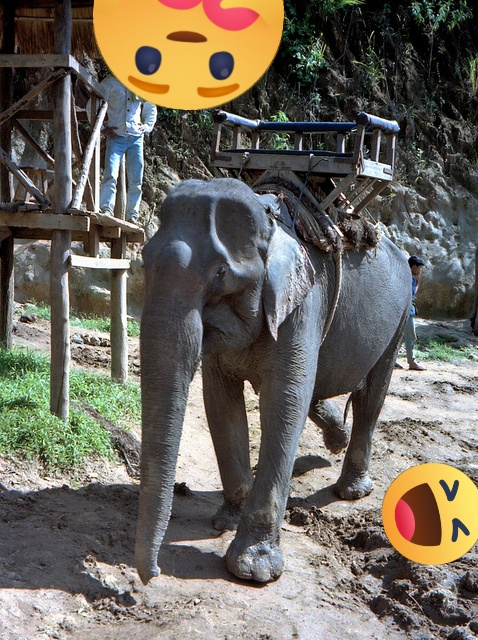care: (93, 0, 284, 110)
haha: (382, 463, 478, 565)
